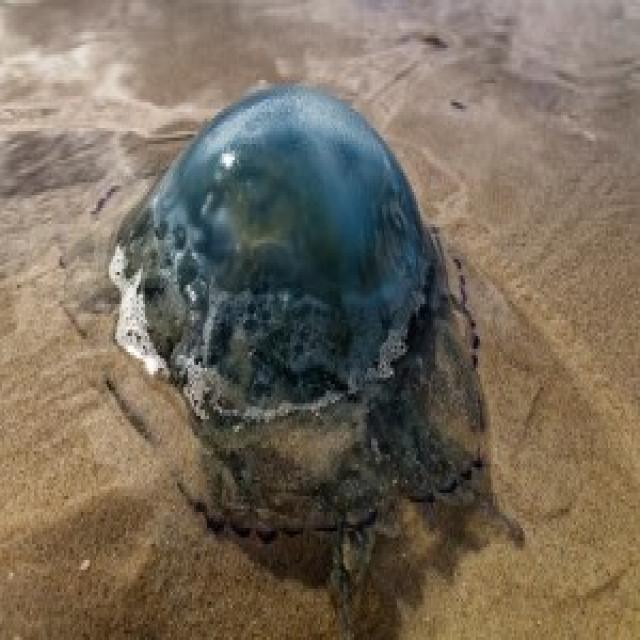Jellyfish: (121, 81, 448, 404)
